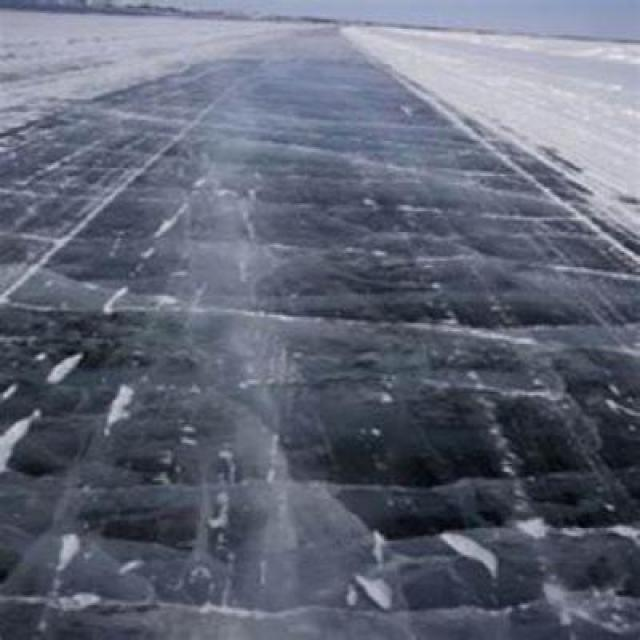ice-road: (0, 31, 640, 640)
